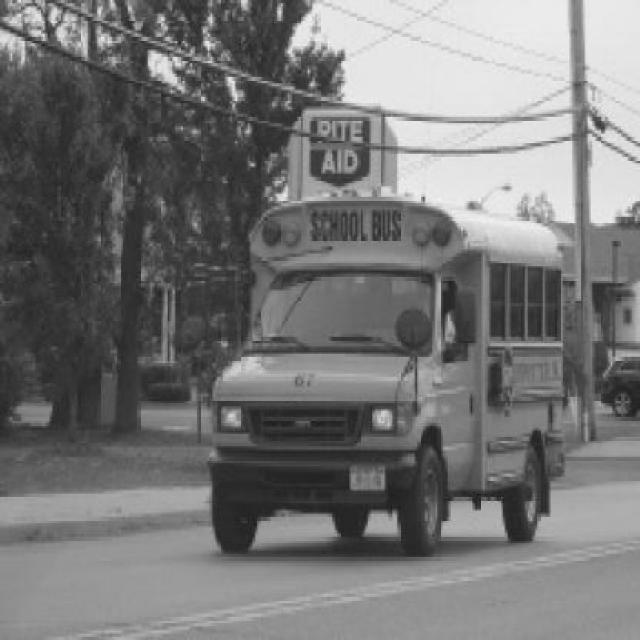Bus- Small: (207, 189, 567, 560)
